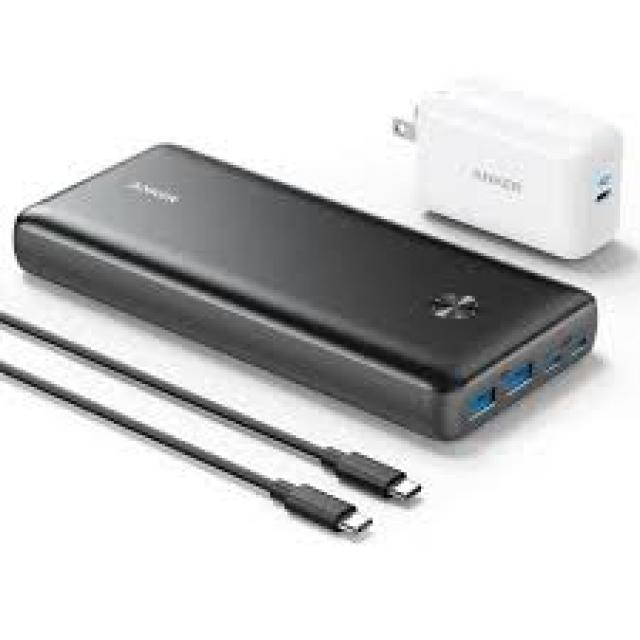non-organic waste: (14, 141, 598, 439)
